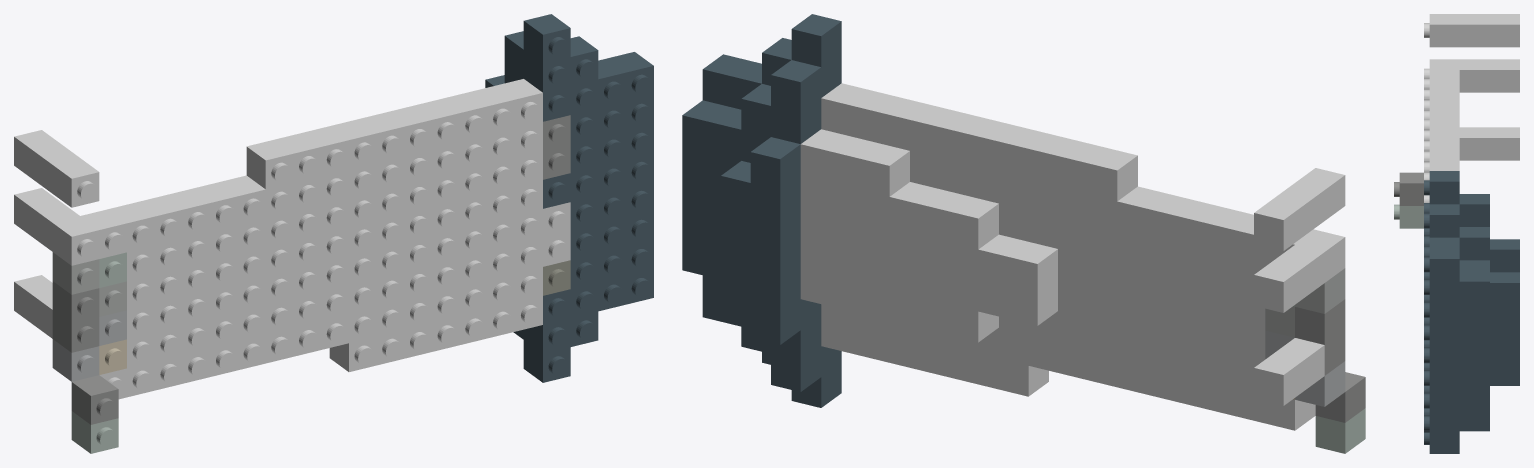
Rendered from full.glb.
3 views of the same model, side by side, from view 1: azimuth 30°, elevation 25°; view 2: azimuth 150°, elevation 25°; view 3: azimuth 270°, elevation 25° (orthographic). The views are drawn at different scales.
Parts seen in each view (by area): view 1: world; view 2: world; view 3: world.
Part boxes in pixels (bbox=[...]): world: bbox=[14, 14, 653, 453]; world: bbox=[682, 14, 1365, 453]; world: bbox=[1394, 14, 1519, 453].
Size of the model in its own units: 168 by 96 by 40.2.
